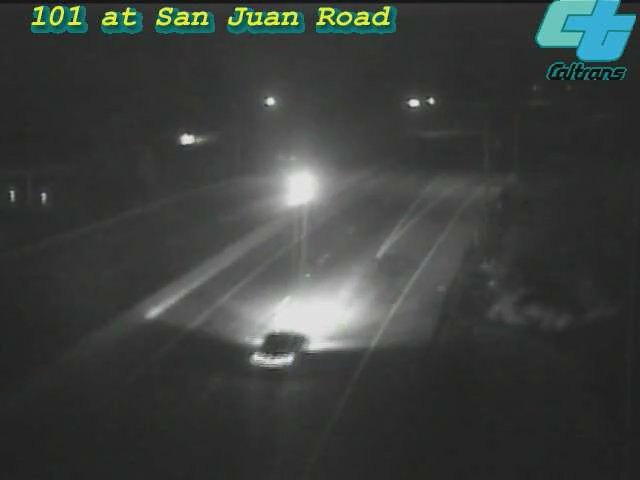vehicle: (218, 301, 328, 411), (261, 143, 341, 223)
